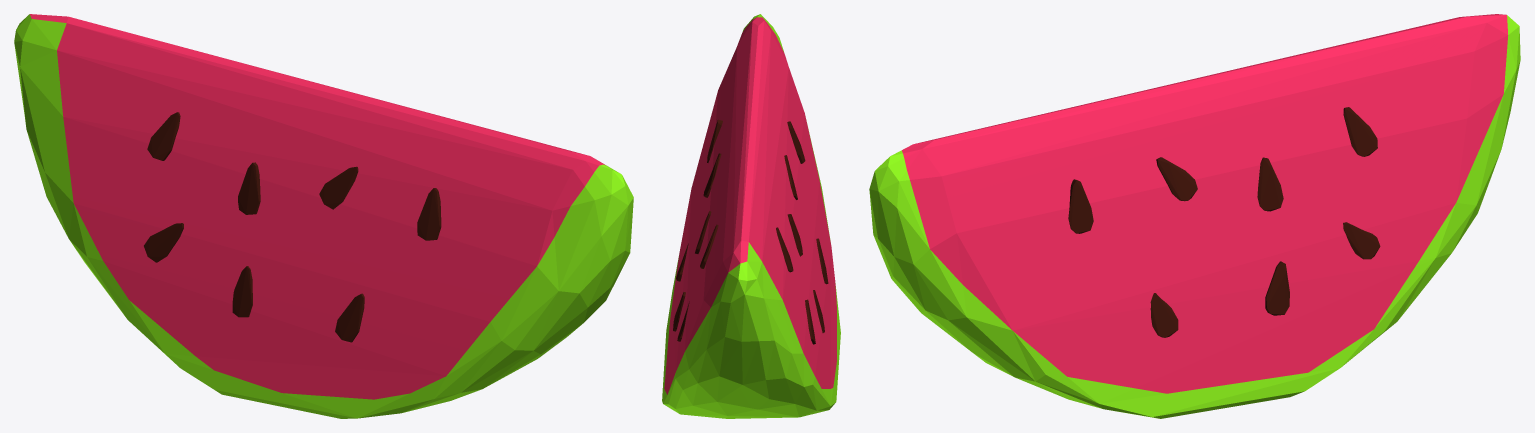
File: Watermelon.fbx
The picture shows the model from 3 angles, left to right: view 1: azimuth 30°, elevation 25°; view 2: azimuth 150°, elevation 25°; view 3: azimuth 270°, elevation 25°; orthographic projection. The views are drawn at different scales.
Visible parts, largest first — view 1: Cut_WaterMElon; view 2: Cut_WaterMElon; view 3: Cut_WaterMElon.
Part boxes in pixels (x1,y1,x2,y2): Cut_WaterMElon: [14, 14, 633, 418]; Cut_WaterMElon: [662, 14, 840, 418]; Cut_WaterMElon: [869, 14, 1520, 418].
Bounding box in the file's own units: 58.53 × 50.12 × 98.4.
Materials: 1 (1 with a texture image).
